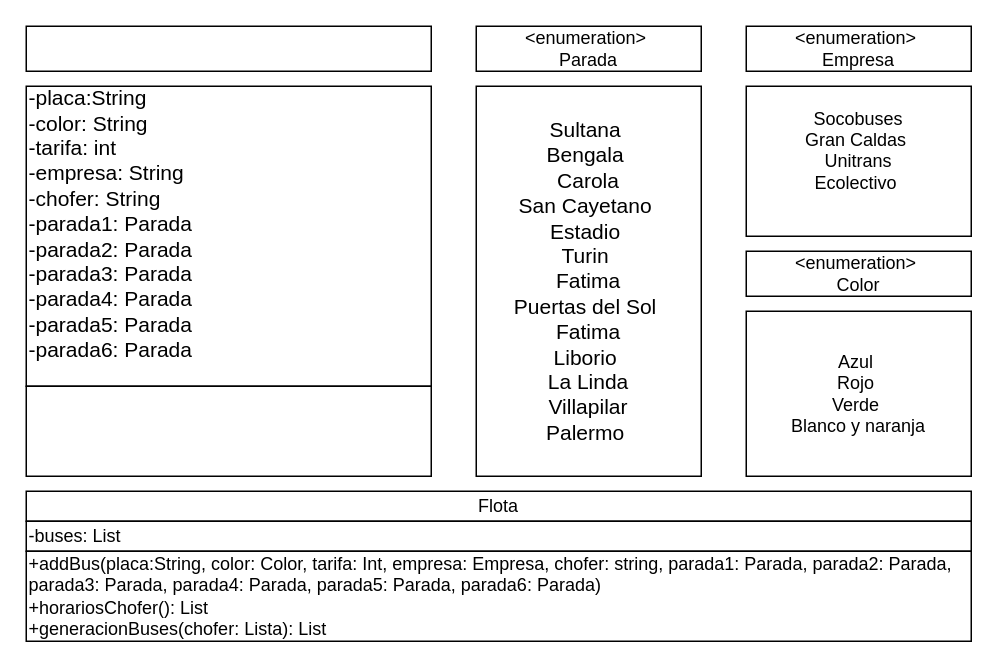
The diagram is 998 pixels wide and 668 high, and some of its shapes have lost their labels. The centre of each missing label's shape, as x and y in pixels:
"+organizarFinalParada(FinalParada:String) +organizarFinal(Final:String)" goes at pixel 228 430.
"Buses" goes at pixel 228 48.
